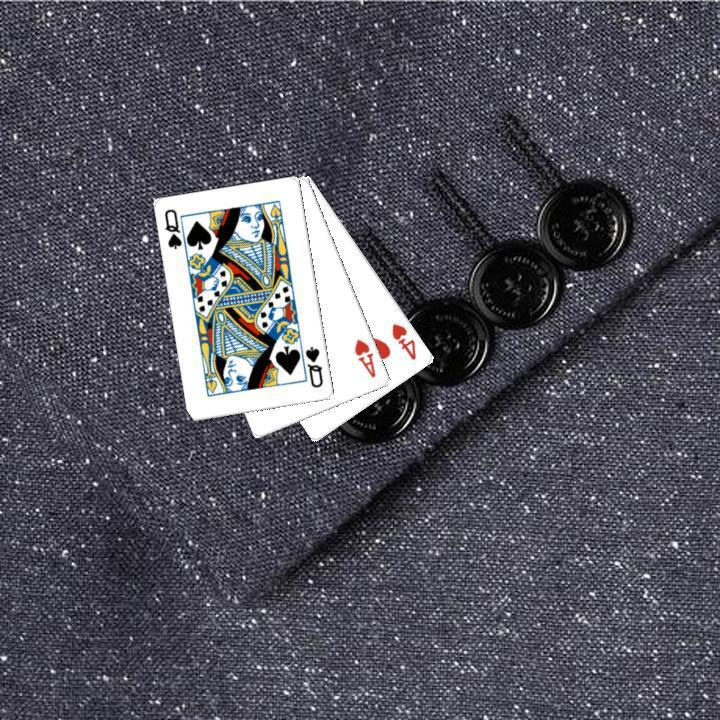4: (388, 319, 419, 362)
A: (350, 335, 378, 380)
Q: (301, 342, 325, 390), (160, 205, 184, 251)
